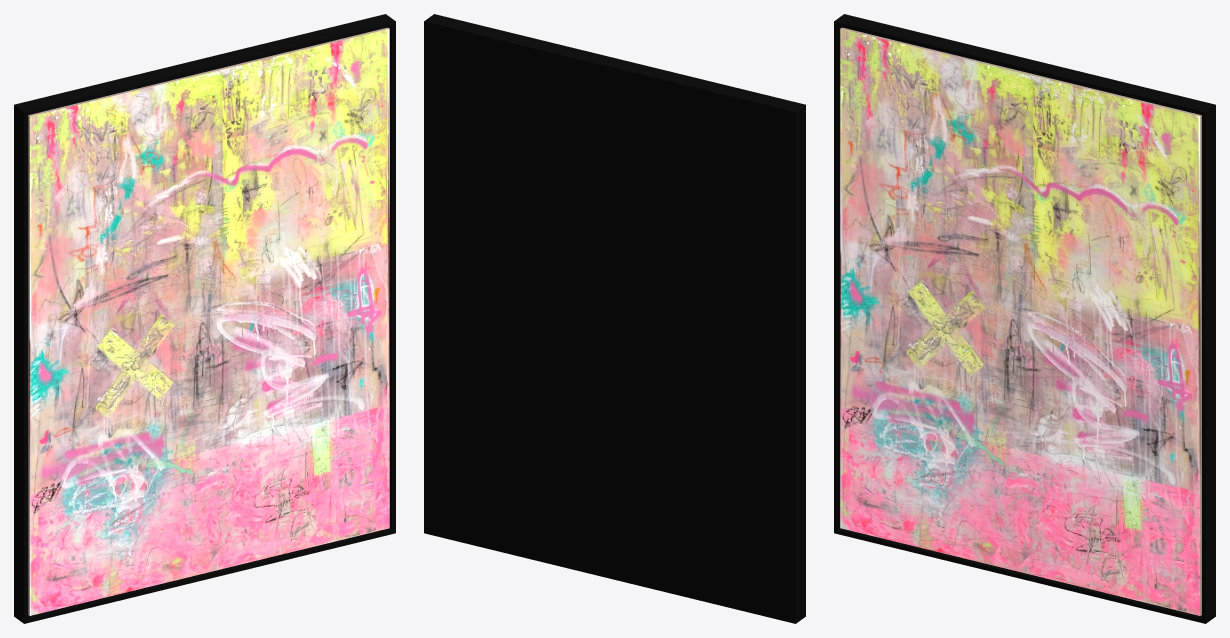
The model's file is are-we-even-now-black.glb.
3 renders of one model, left to right at view 1: azimuth 30°, elevation 25°; view 2: azimuth 150°, elevation 25°; view 3: azimuth 330°, elevation 25°, orthographic.
Visible parts, largest first — view 1: painting; view 2: painting; view 3: painting.
Boxes of the visible parts, <box> form: painting: <box>14,14,395,623</box>; painting: <box>424,14,805,623</box>; painting: <box>834,14,1215,623</box>.
Bounding box in the file's own units: 0.95 × 1.25 × 0.045.
Materials: 3 (1 with a texture image).
